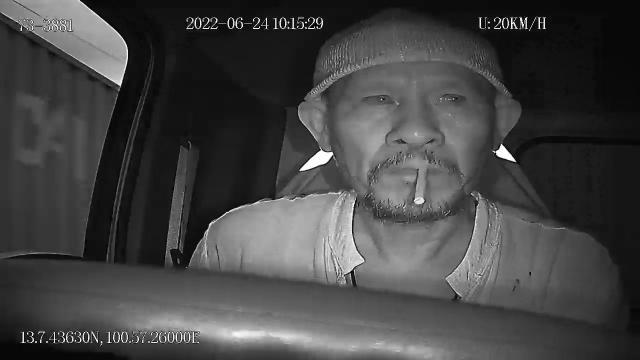SafeDriving: (354, 81, 404, 114), (427, 81, 475, 112)
Smoking: (415, 164, 431, 206)
